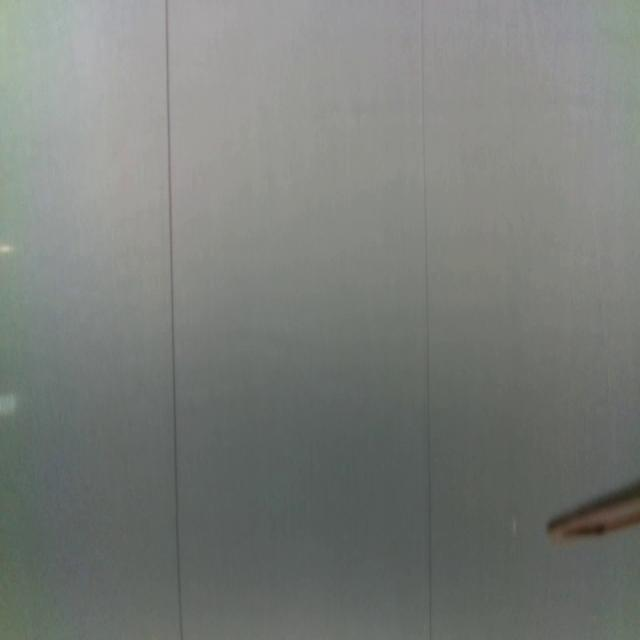crease: (164, 0, 183, 640), (420, 0, 434, 640)
